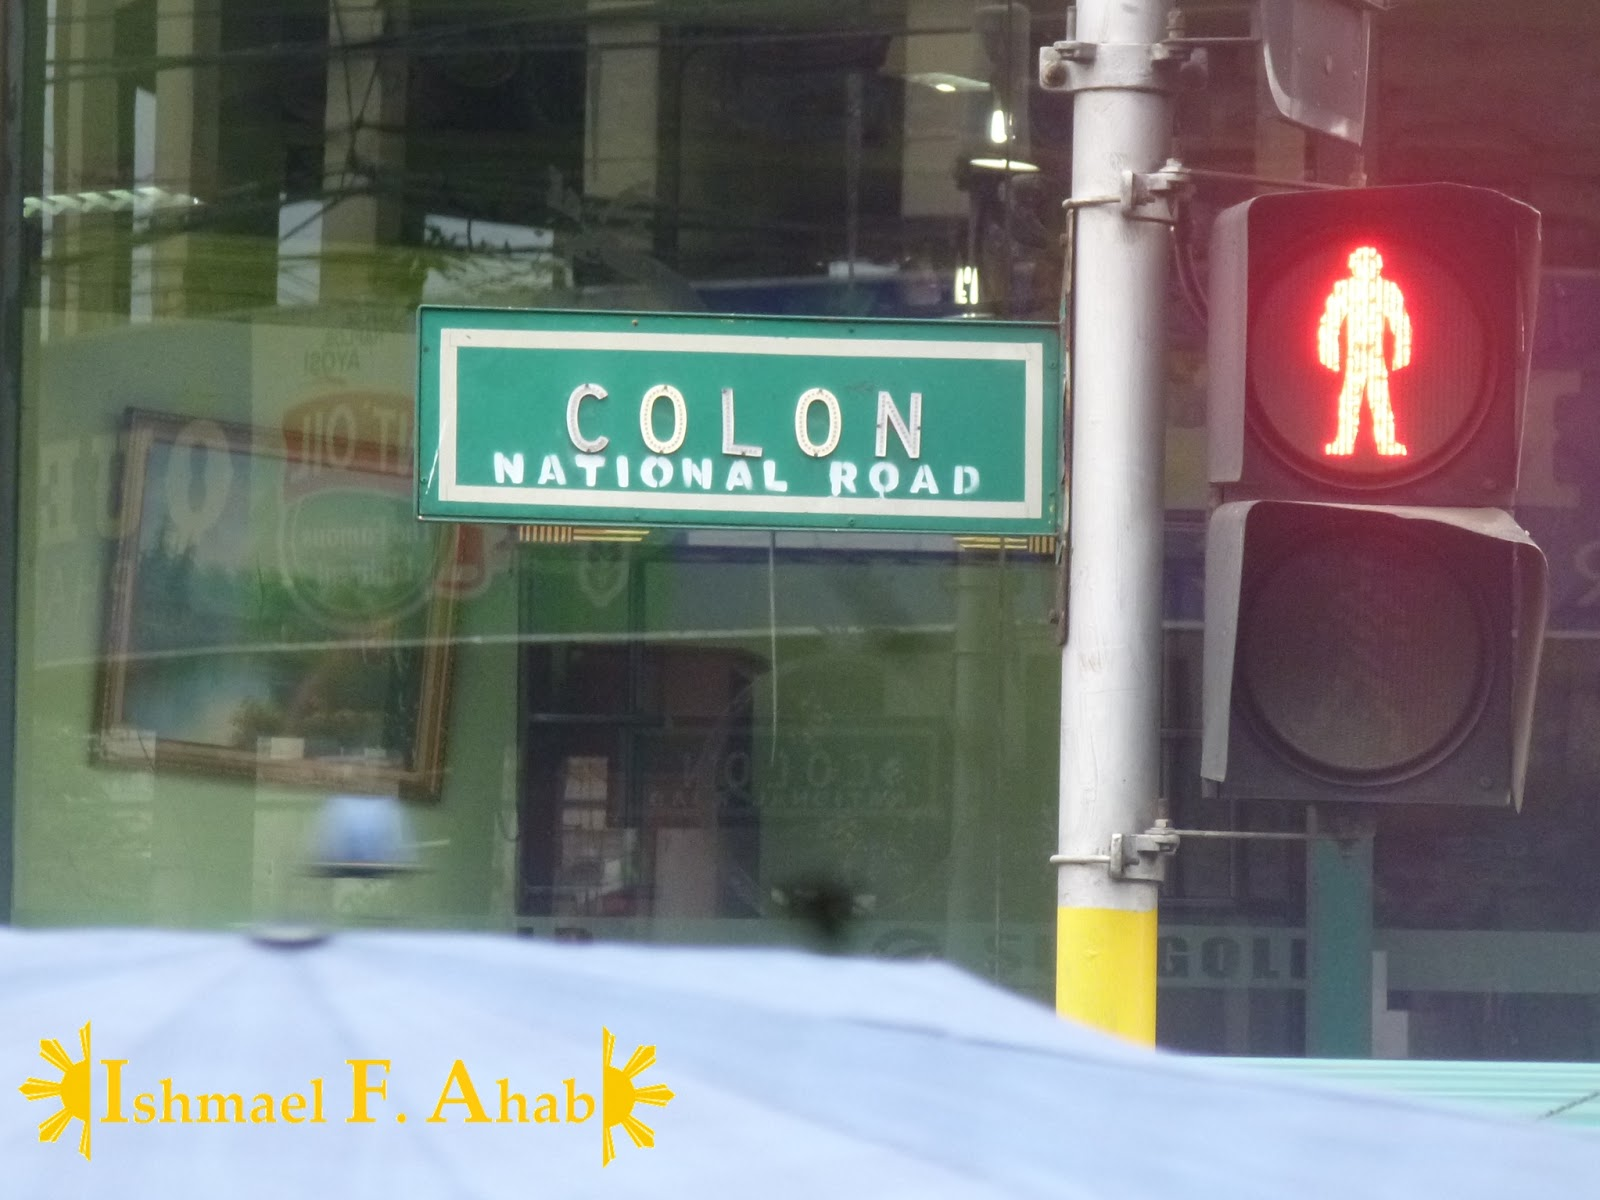pole: (1056, 5, 1167, 1049)
traffic light: (1209, 178, 1550, 817)
